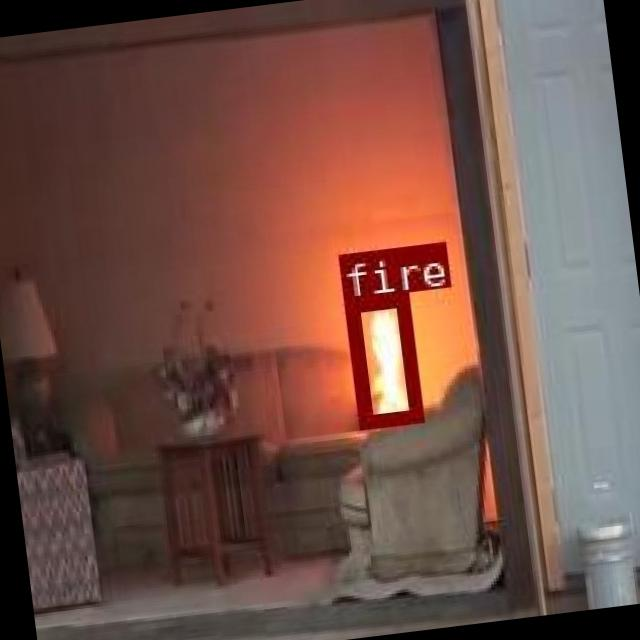fire: (342, 292, 419, 426)
